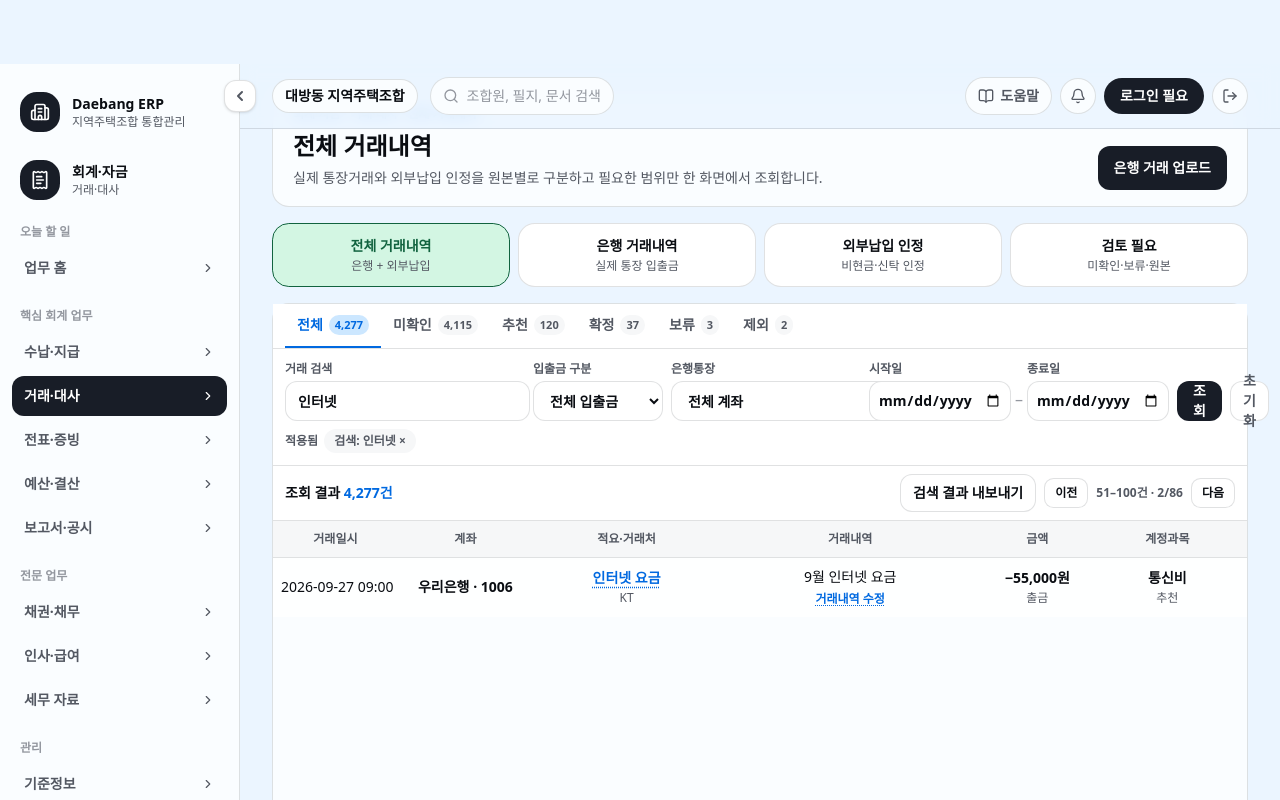
BankTransactionListPage › lets an administrator choose ordered Excel or PDF export columns for the current result
The image size is (1280, 800).
Click the button "검색 결과 내보내기".
click(968, 493)  # box [900,474,1036,512]
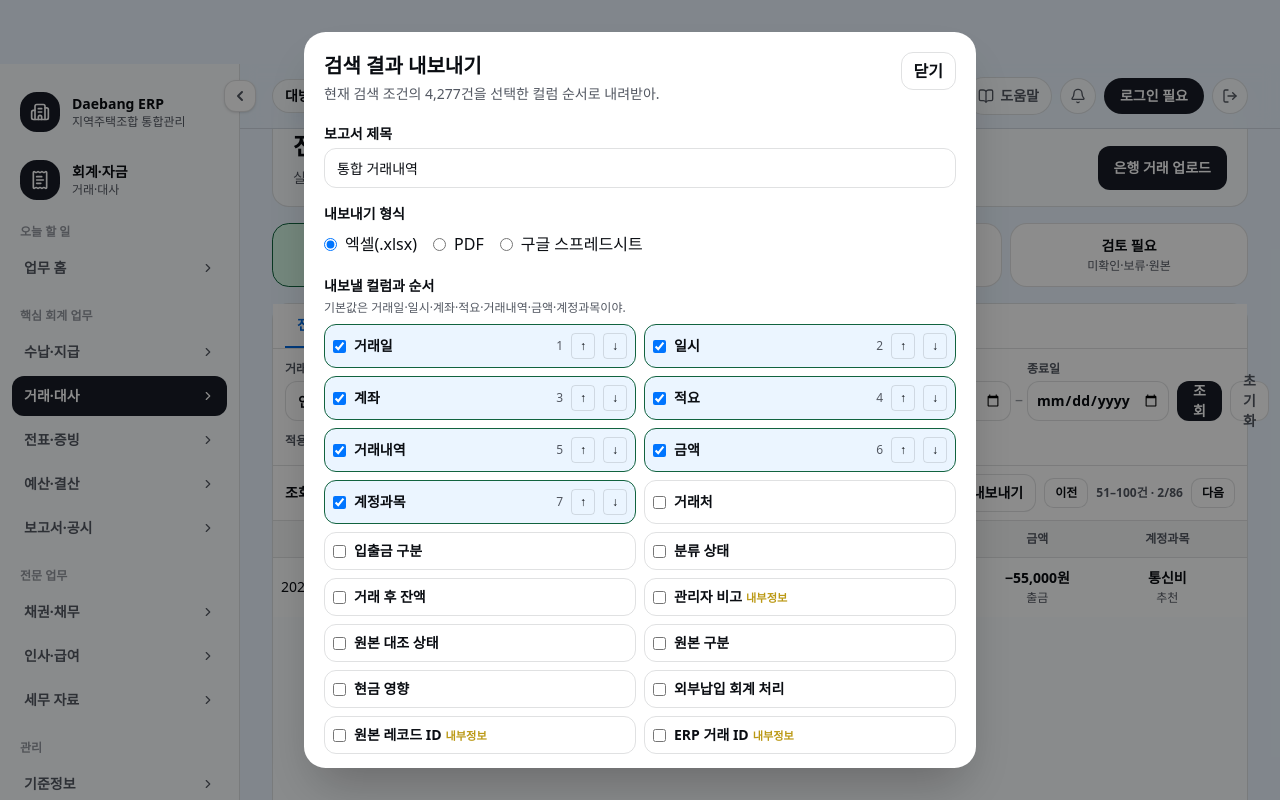
Now the text "현재 검색 조건의 4,277건을 선택한 컬럼 순서로 내려받아." is shown, box [324,84,660,104]
Now the radio button labelled "구글 스프레드시트" is shown
Click the radio button labelled "구글 스프레드시트".
click(506, 244)  # box [500,238,513,250]
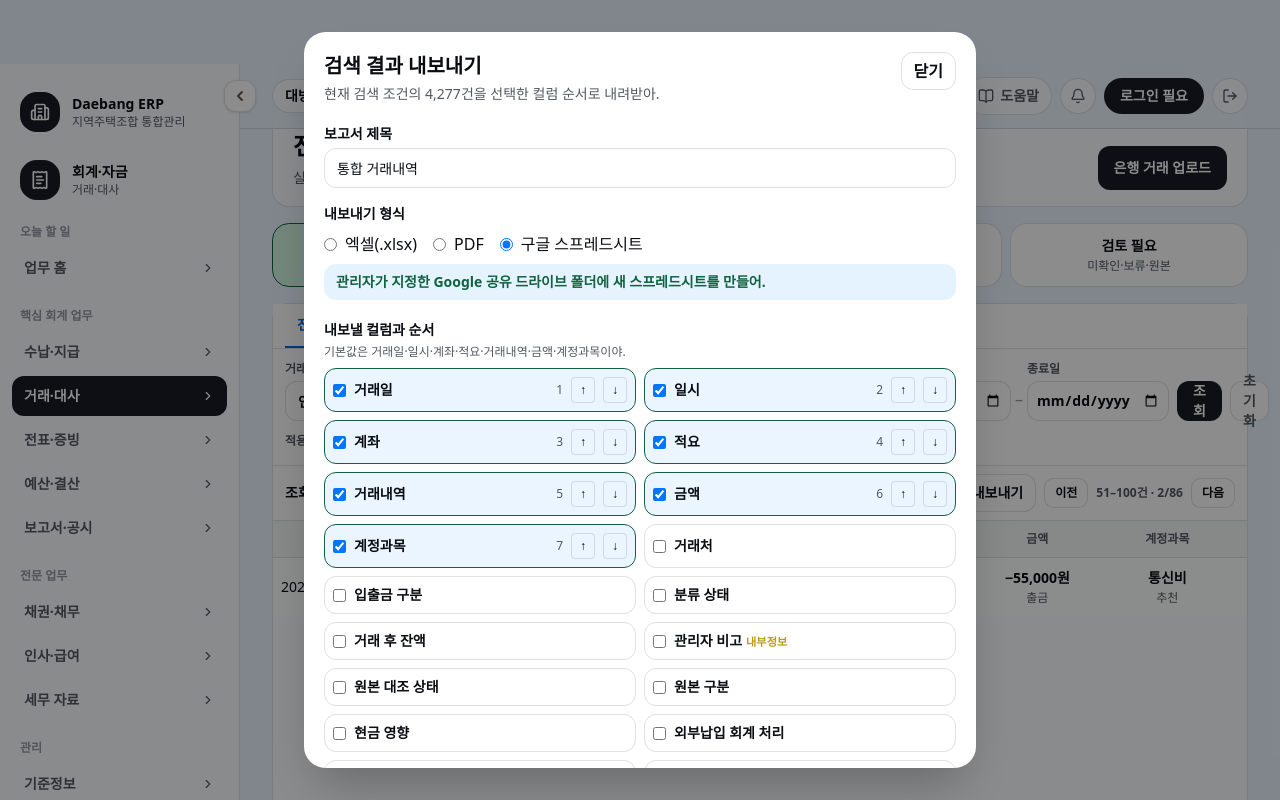
Now the text "관리자가 지정한 Google 공유 드라이브 폴더에 새 스프레드시트를 만들어." is shown, box [324,264,956,300]
Click the radio button labelled "PDF".
click(440, 244)  # box [433,238,446,250]
(page scrolled)
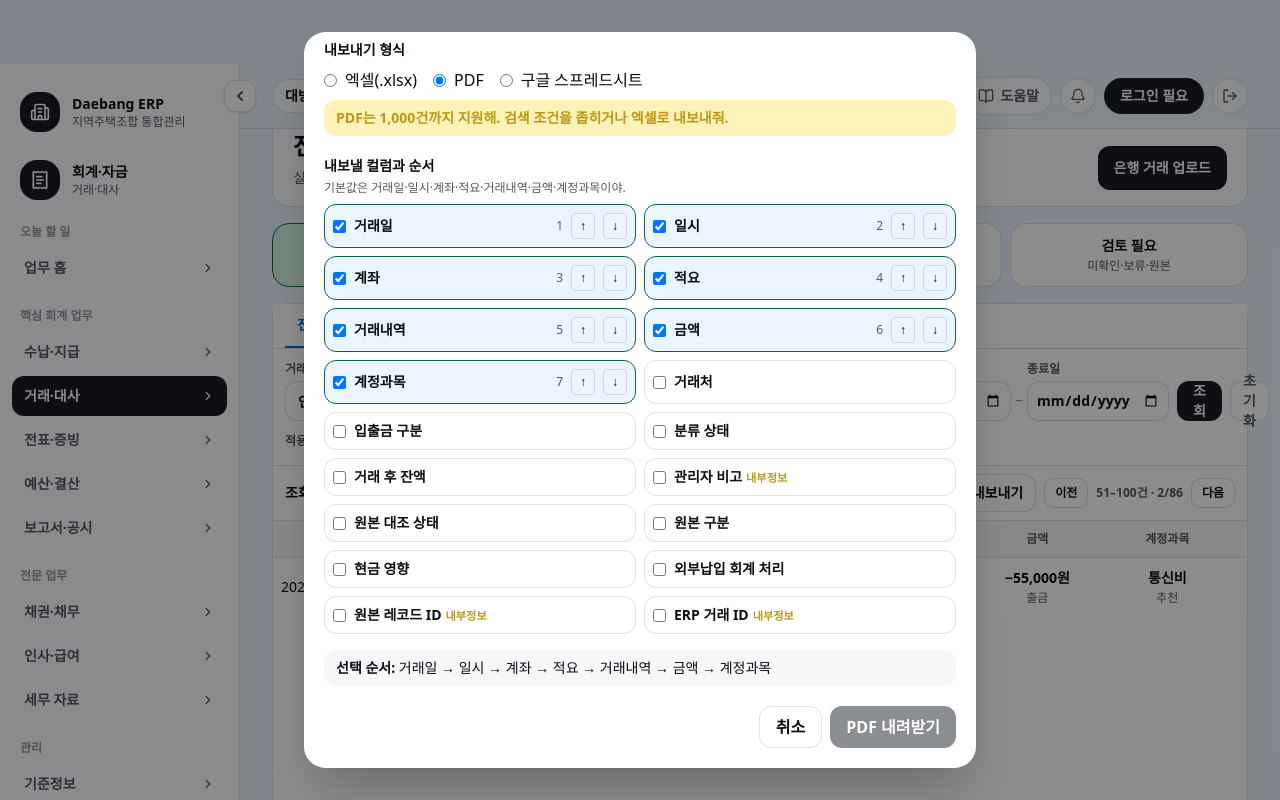
Now the text "PDF는 1,000건까지 지원해. 검색 조건을 좁히거나 엑셀로 내보내줘." is shown, box [324,100,956,136]
Now the button "PDF 내려받기" is disabled, box [830,706,956,748]
